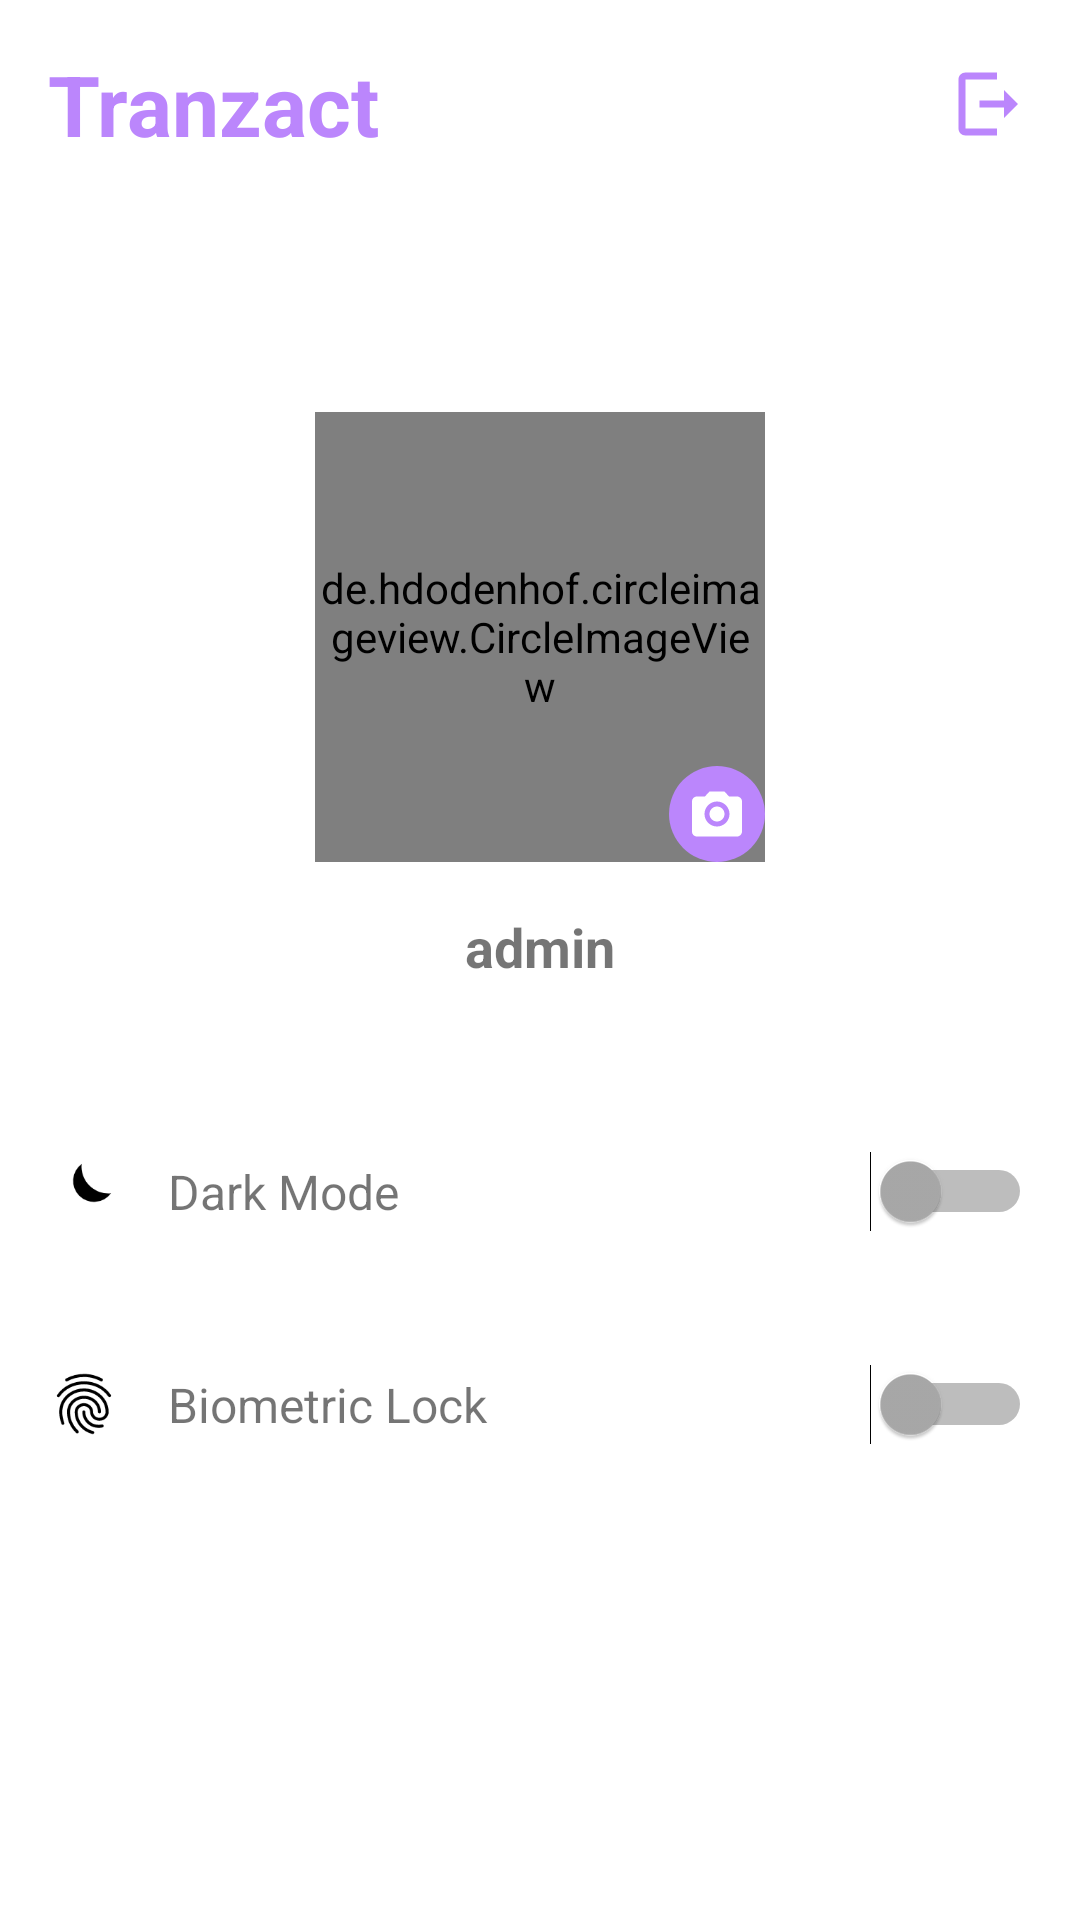

Point at icon controls on the screen. Image size 1080 × 1920, points as (x,y).
Biometrics Icon: (84,1404)
Change profile image: (717,814)
